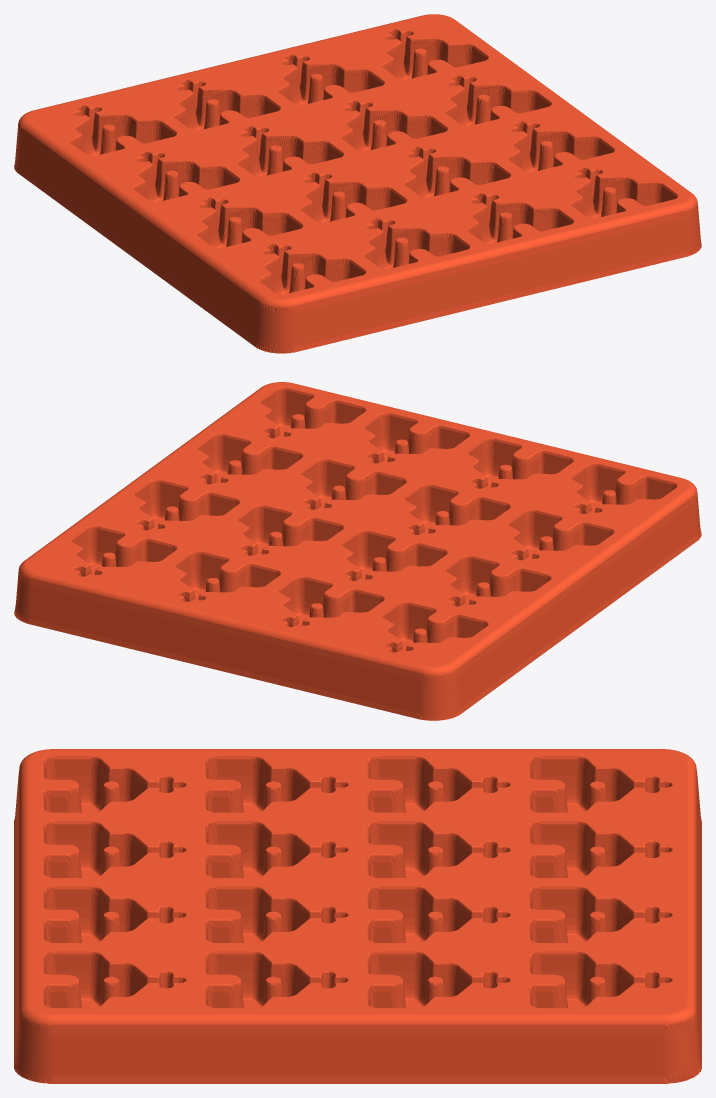
Rendered from mold.glb.
3 views of the same model, one above another, from view 1: azimuth 30°, elevation 25°; view 2: azimuth 150°, elevation 25°; view 3: azimuth 270°, elevation 25° (orthographic). The views are drawn at different scales.
Visible parts, largest first — view 1: geometry_0; view 2: geometry_0; view 3: geometry_0.
Boxes of the visible parts, x1=… form: geometry_0: x1=14, y1=14, x2=701, y2=353; geometry_0: x1=14, y1=382, x2=701, y2=720; geometry_0: x1=14, y1=749, x2=701, y2=1083.
Bounding box in the file's own units: 0.1496 × 0.0159 × 0.1569.
